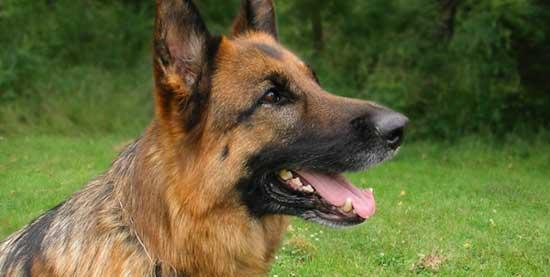German_shepherd: (1, 0, 410, 276)
